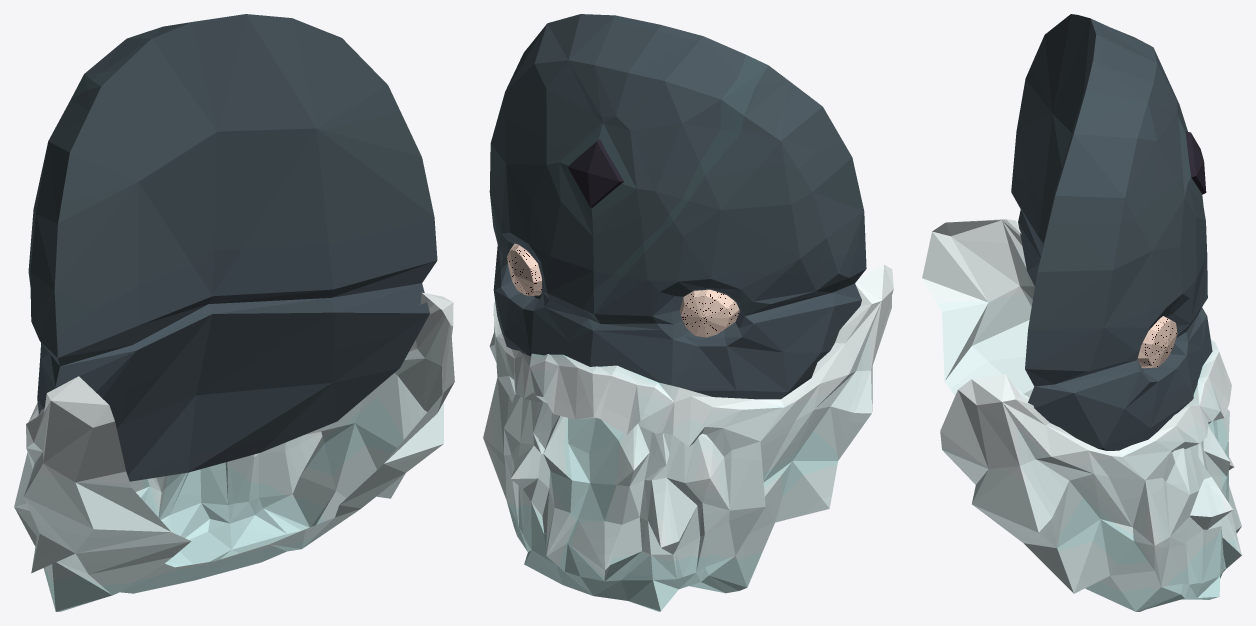
File: CharSkyKid_Mask_AP13FullBeard_01.glb
3 renders of one model, left to right at view 1: azimuth 30°, elevation 25°; view 2: azimuth 150°, elevation 25°; view 3: azimuth 270°, elevation 25°, orthographic. The views are drawn at different scales.
Visible parts, largest first — view 1: CharSkyKid_Mask_AP13FullBeard_01; view 2: CharSkyKid_Mask_AP13FullBeard_01; view 3: CharSkyKid_Mask_AP13FullBeard_01.
Part boxes in pixels (x1,y1,x2,y2): CharSkyKid_Mask_AP13FullBeard_01: (14, 14, 454, 611); CharSkyKid_Mask_AP13FullBeard_01: (483, 14, 893, 611); CharSkyKid_Mask_AP13FullBeard_01: (922, 14, 1241, 611).
Size of the model in its own units: 2.34 by 3.16 by 1.67.
Materials: 1 (1 with a texture image).
